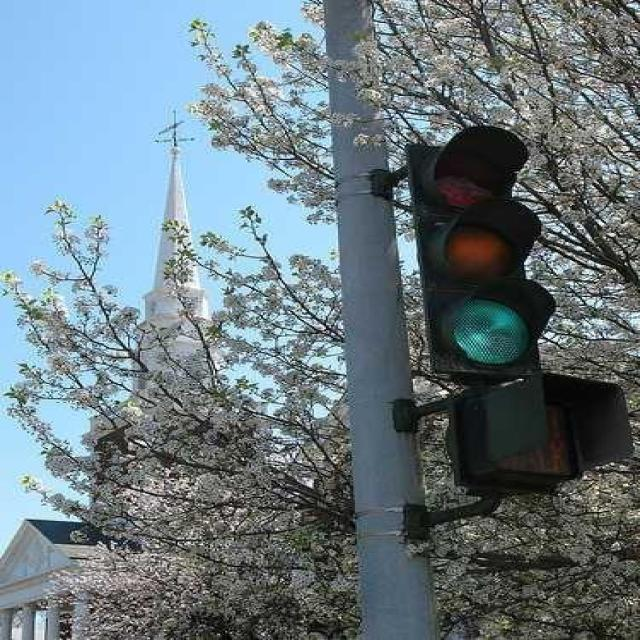Traffic Light -Green-: (404, 118, 548, 385)
